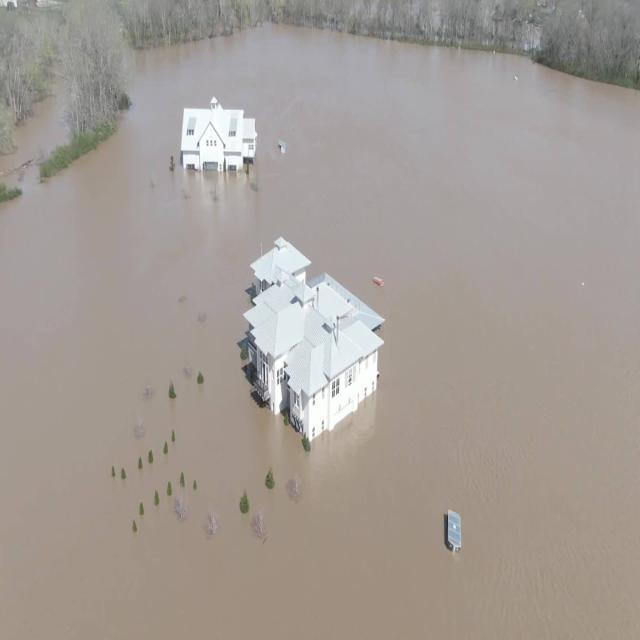flood: (1, 22, 640, 640), (0, 96, 640, 640)
house: (240, 235, 394, 442), (178, 96, 256, 178)
